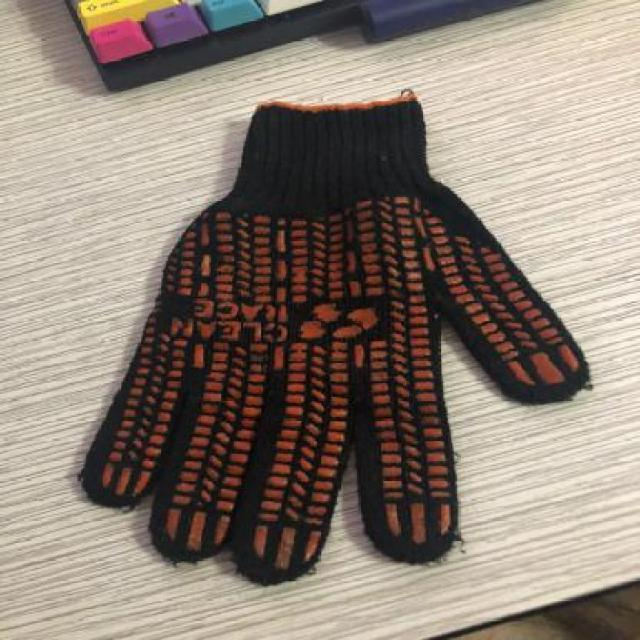gloved_hand: (96, 92, 587, 589)
